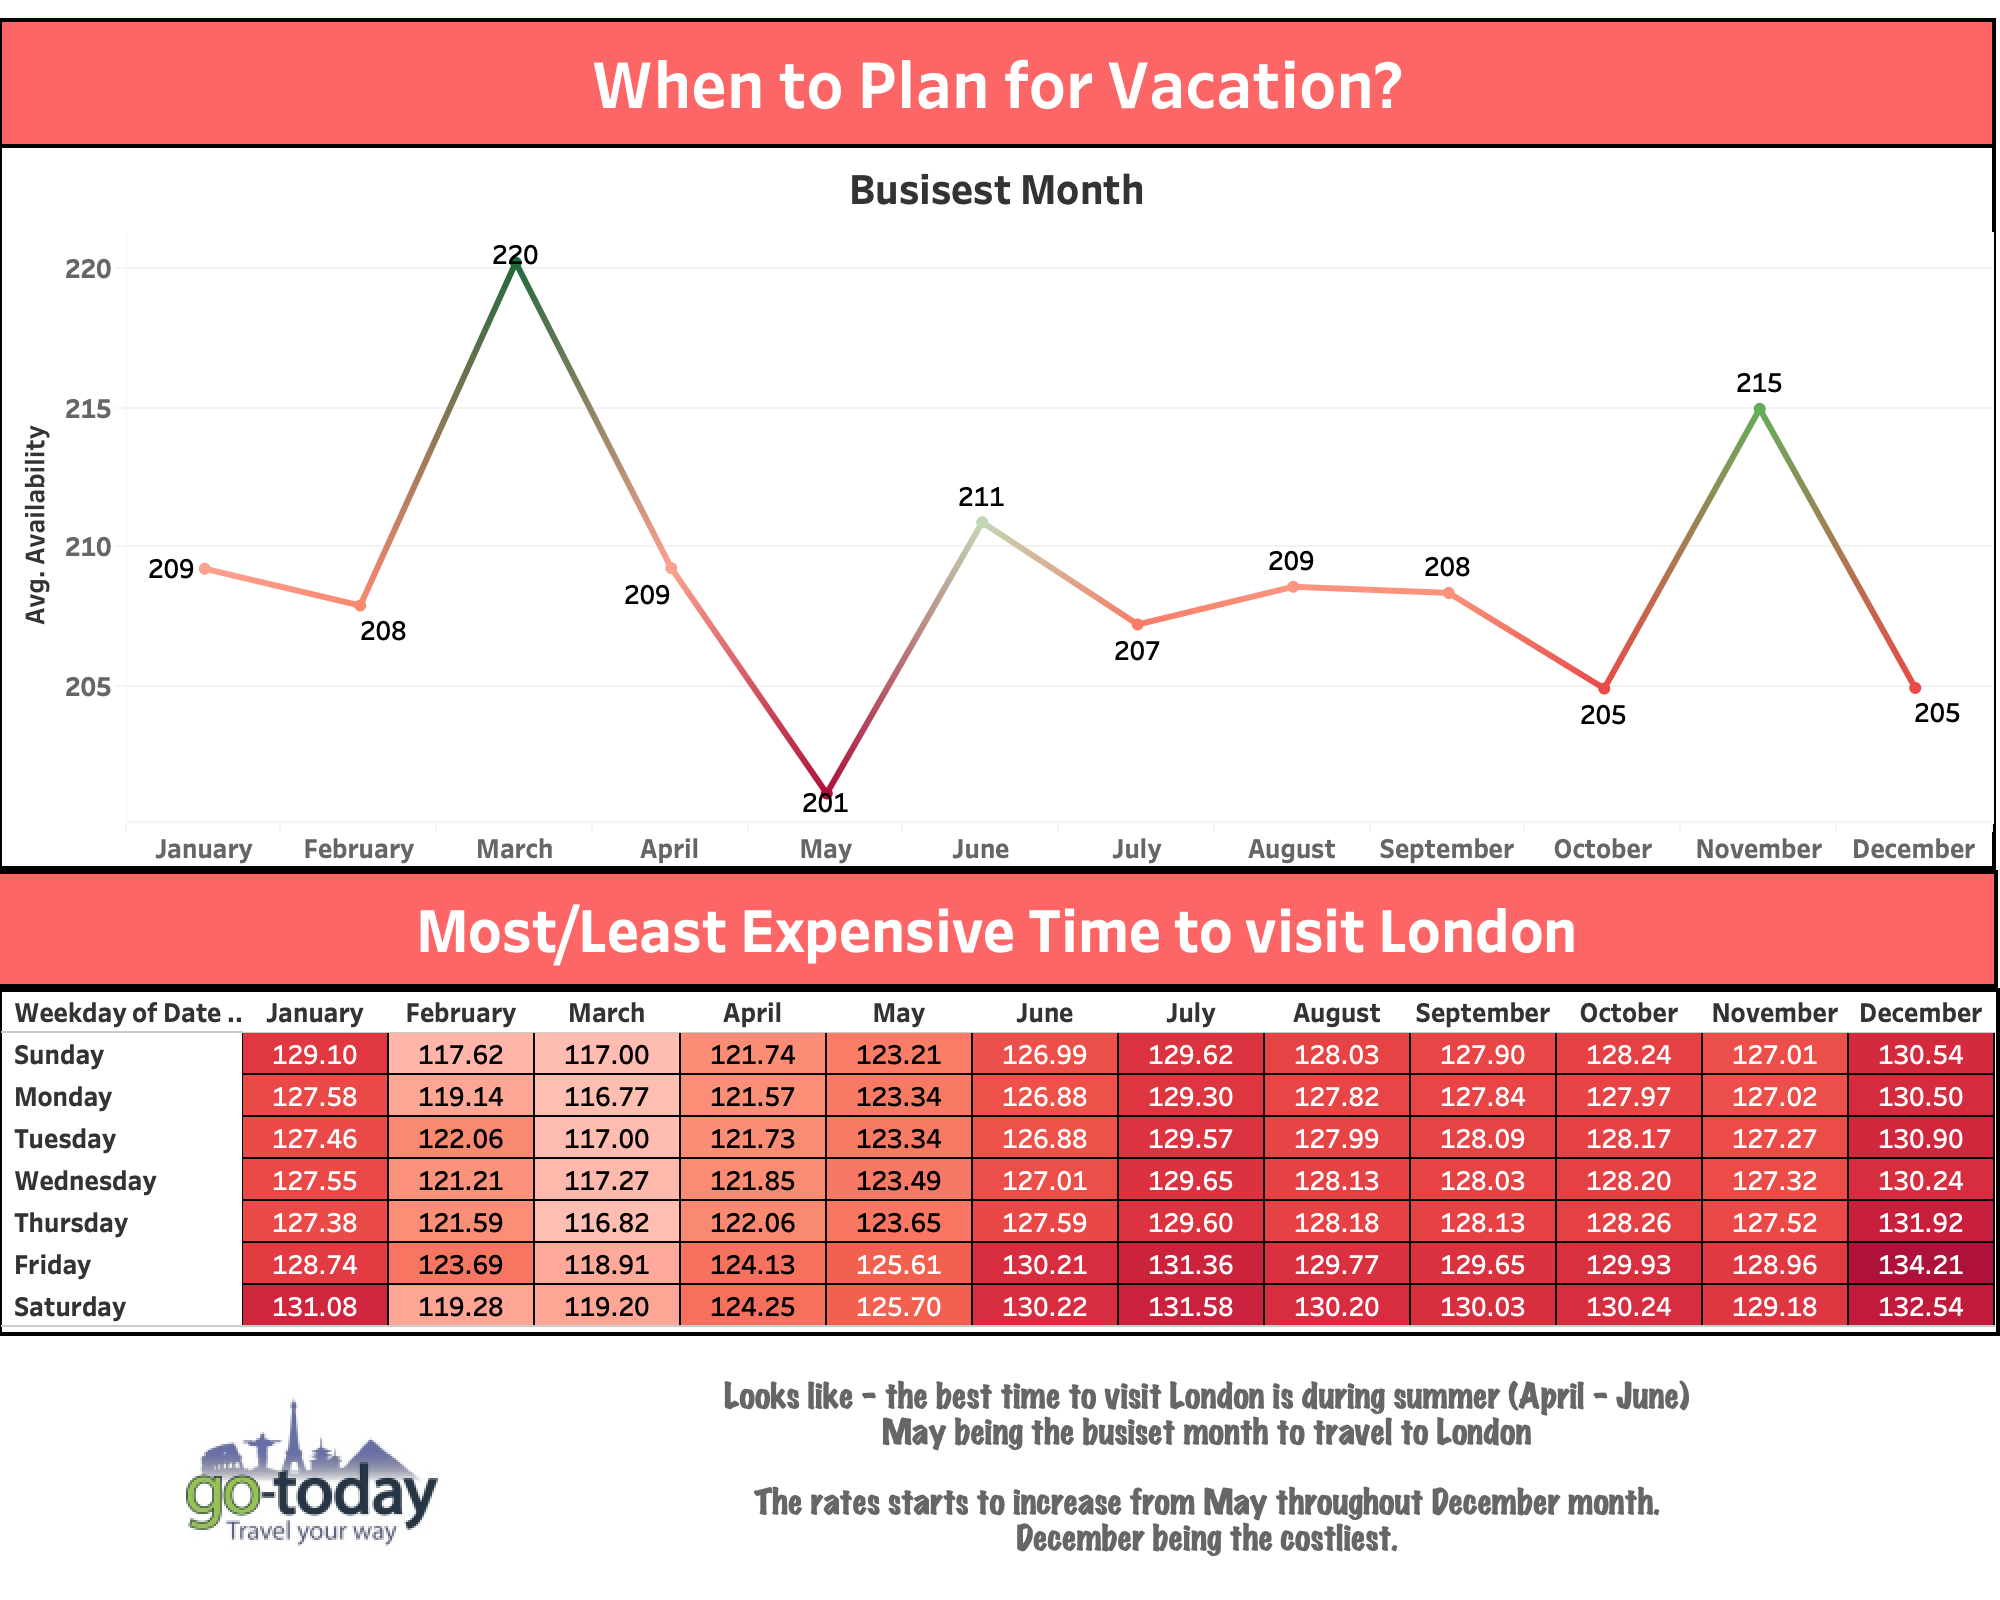

Layout of this report page (visuals, bound fields, positions):
{"tool":"tableau","page":{"name":"When to plan?","canvas":[1000,800],"ordinal":8},"visuals":[{"type":"worksheet","param":"/Users/saranyapandiaraj/Desktop/SJSU/Semester 2/Data 230 - Data Visualization/As","box":[3,12,59,59]},{"type":"worksheet","param":"/Users/saranyapandiaraj/Desktop/SJSU/Semester 2/Data 230 - Data Visualization/As","box":[934,12,59,59]},{"type":"worksheet","box":[207,671,793,129]},{"type":"worksheet","param":"/Users/saranyapandiaraj/Desktop/SJSU/Semester 2/Data 230 - Data Visualization/As","box":[93,673,147,126]}]}

Visuals, with their boxes in screenshot pixels (x1, y1, x2, y2), scaled from the page's 1000x800 canvas onto the 2000x1600 screenshot:
worksheet: 6 24 124 142
worksheet: 1868 24 1986 142
worksheet: 414 1342 1999 1599
worksheet: 186 1346 480 1598
